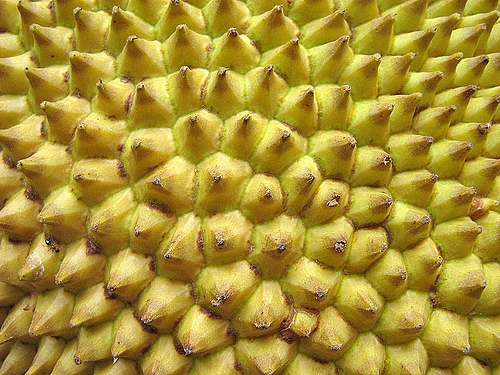jackfruit: (0, 2, 499, 374)
